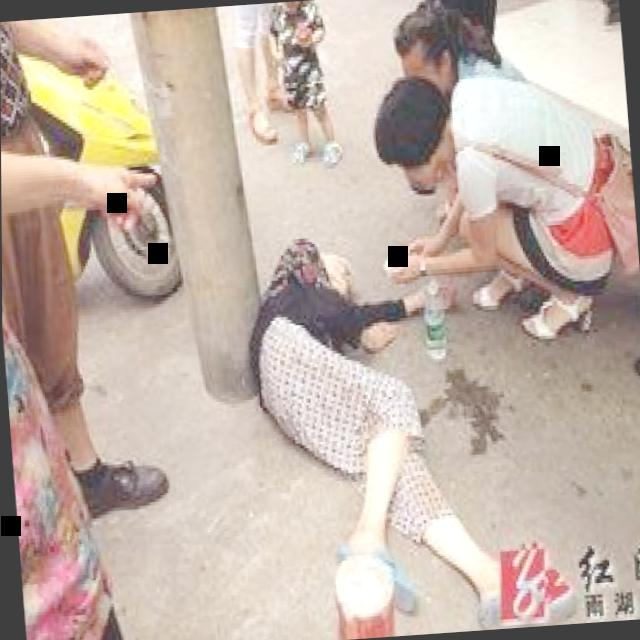Fall-Detected: (203, 195, 548, 640)
